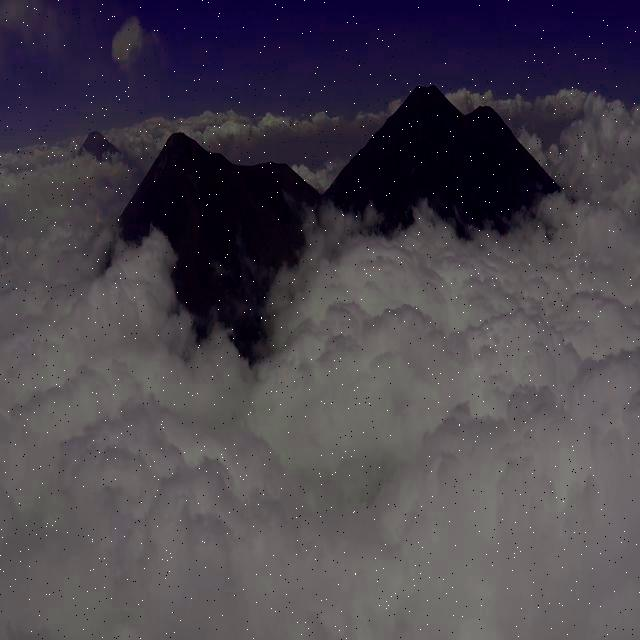Plume: (110, 16, 142, 66)
Summit: (138, 128, 236, 186)
